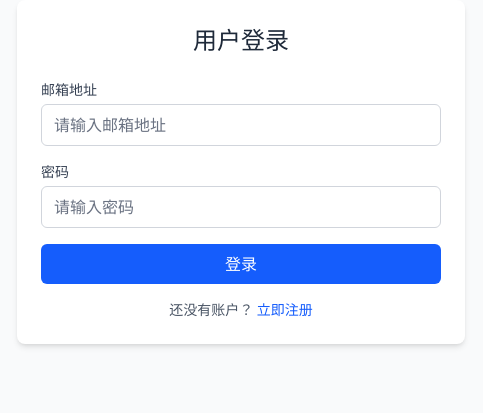
Test: LoginForm组件 › 表单验证 › 应该验证必填字段
Note:  尝试提交空表单
Click the button "登录": [241, 264] box [41,244,441,284]
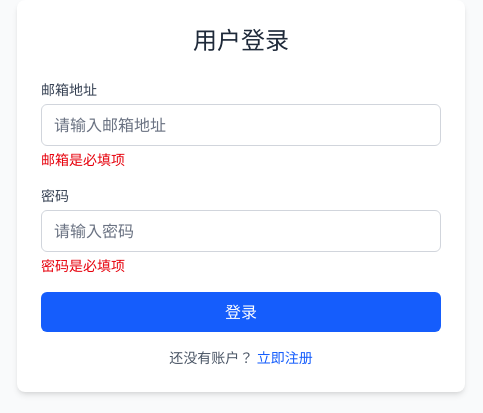
Result: the text "邮箱是必填项" is shown at [41,150,125,169]
Result: the text "密码是必填项" is shown at [41,256,125,275]
